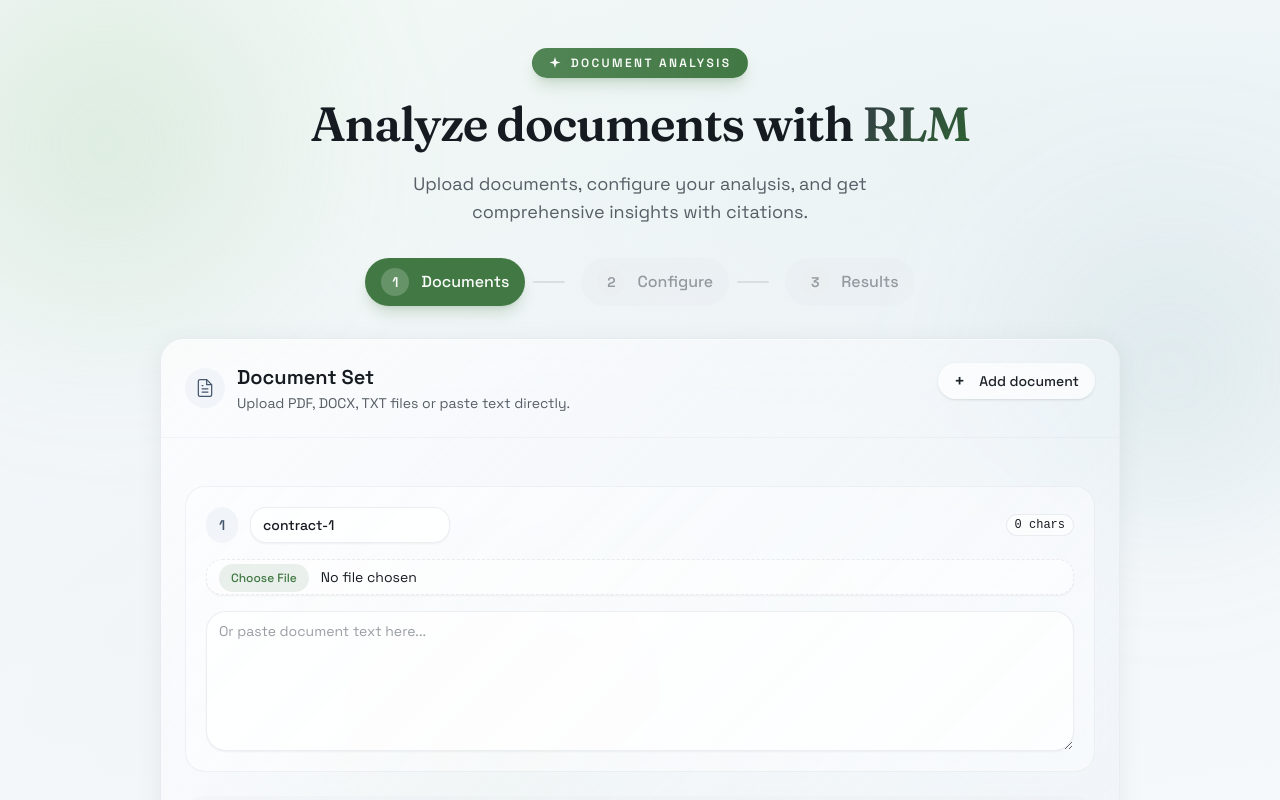
Home Page › analysis execution › should show loading state during analysis
// Navigate to configure
Type "Test content" into the text box with placeholder "Or paste document text here..." at (640, 681), box [206,611,1074,751]
(page scrolled)
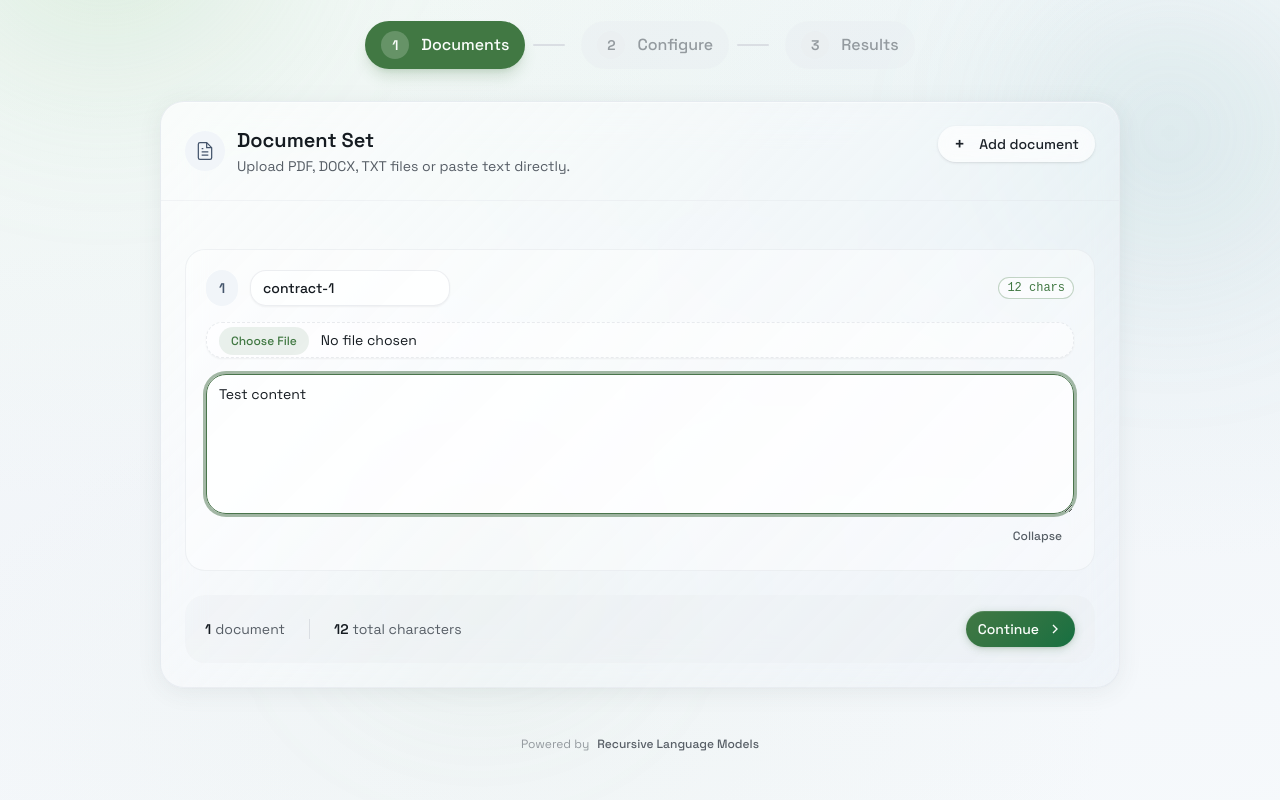
Click the button "Continue" at (1020, 629), box [966,611,1075,647]
(page scrolled)
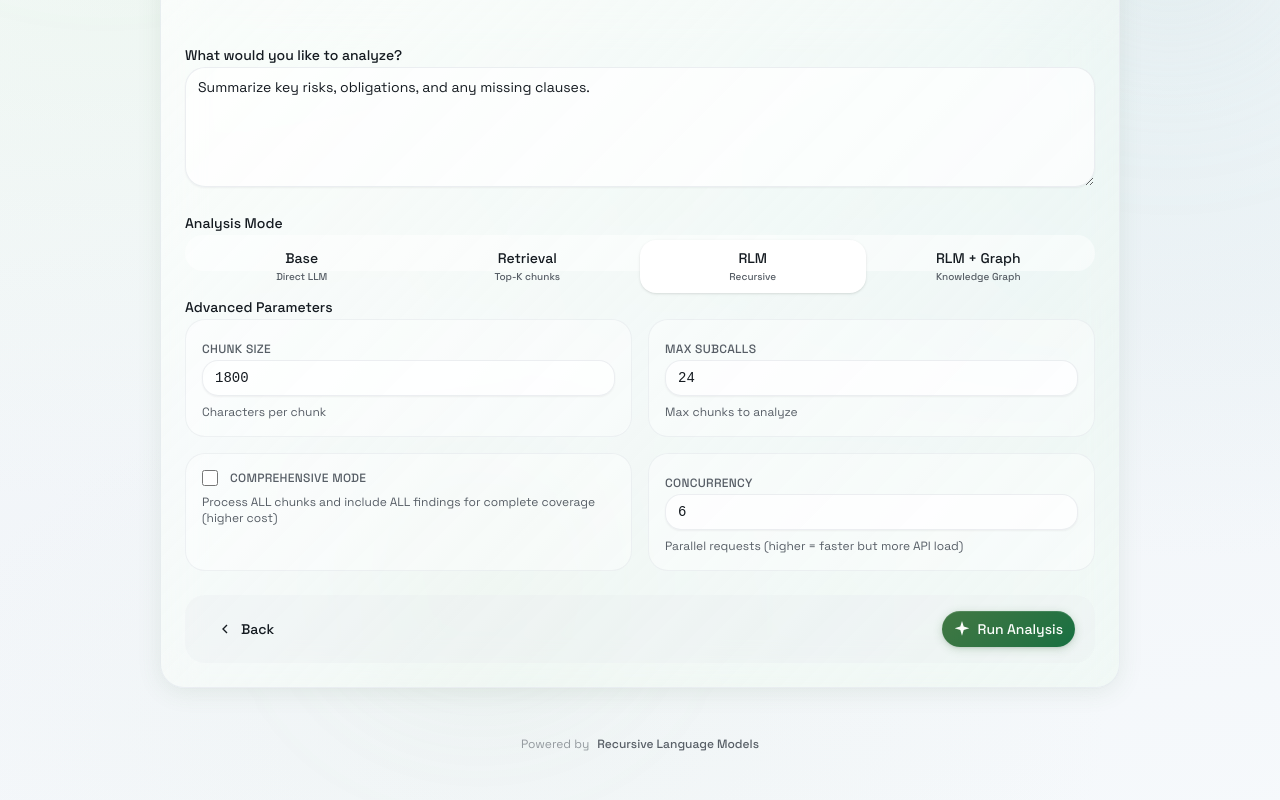
Now the button "Run Analysis" is shown
// Click run analysis
Click the button "Run Analysis" at (1008, 629), box [942,611,1075,647]
(page scrolled)
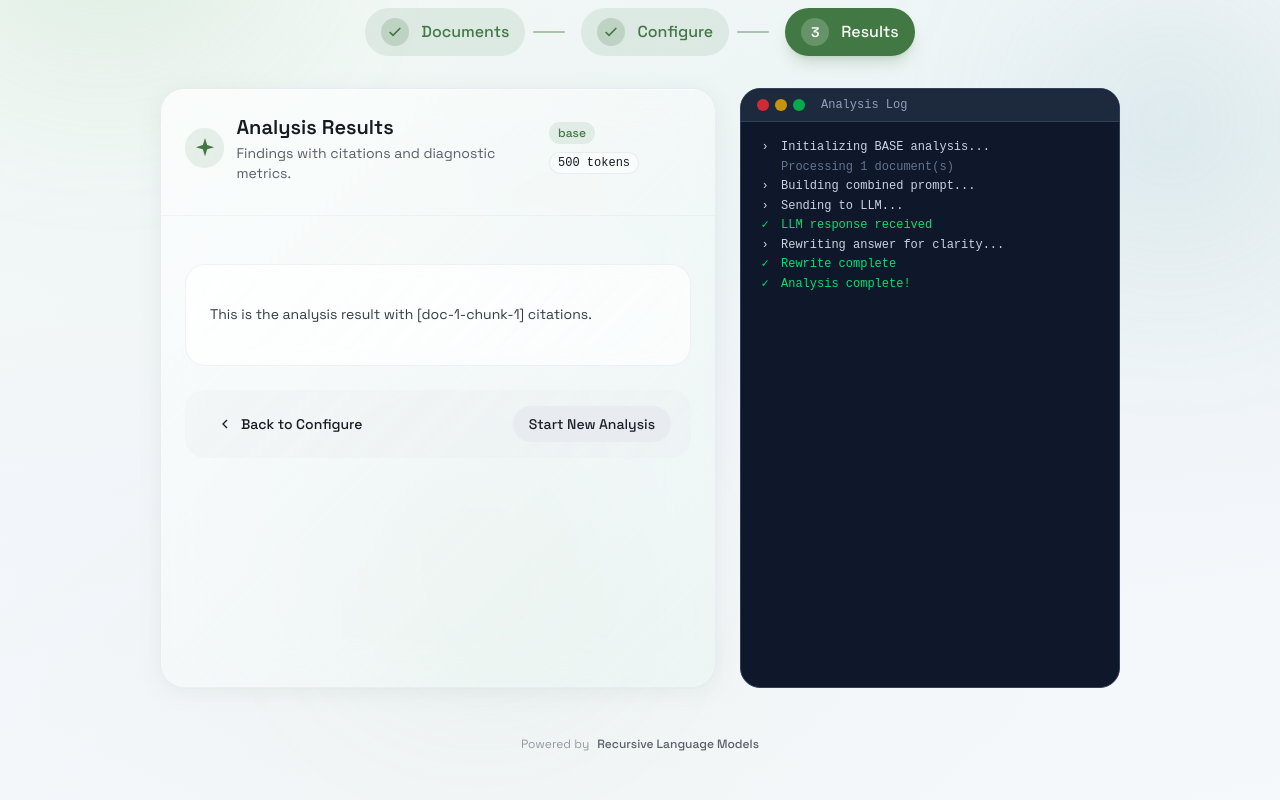
Now the text "Analysis Results" is shown, box [236,114,394,140]
